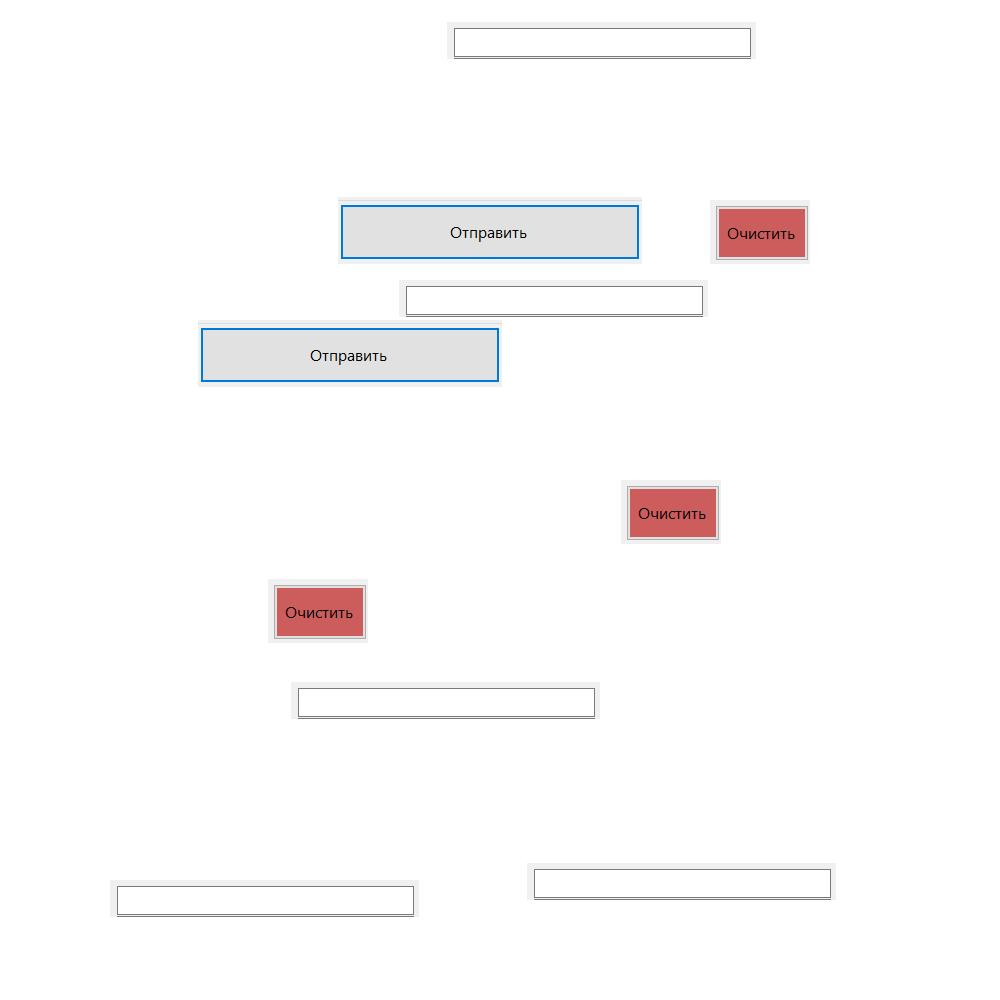Button: (198, 320, 502, 387), (338, 197, 642, 264), (621, 480, 721, 544), (710, 200, 810, 264), (268, 579, 368, 643)
EditText-: (399, 280, 708, 317), (291, 682, 600, 719), (110, 880, 419, 917), (527, 863, 836, 900), (447, 22, 756, 59)
